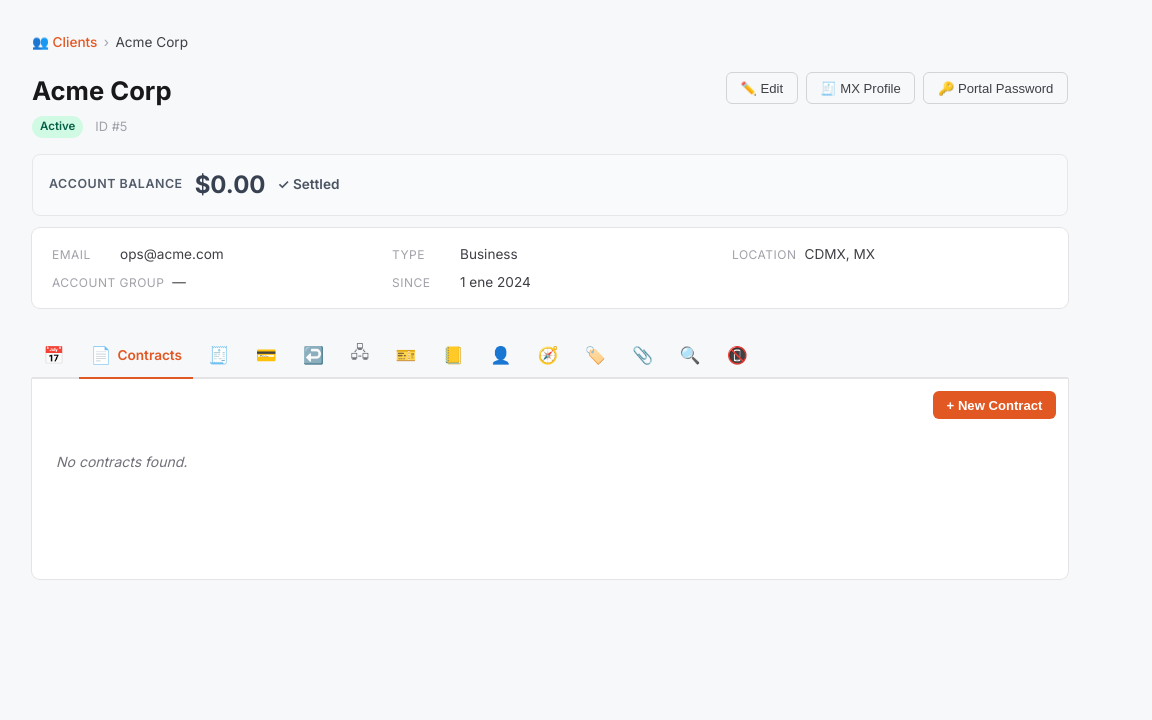
Test: ClientDetail page › Tickets tab lists the client tickets and links to each ticket
Expected: the heading "Acme Corp" is shown, [32,72,172,111]
Click the button named "Tickets": (406, 356) [384,332,428,379]
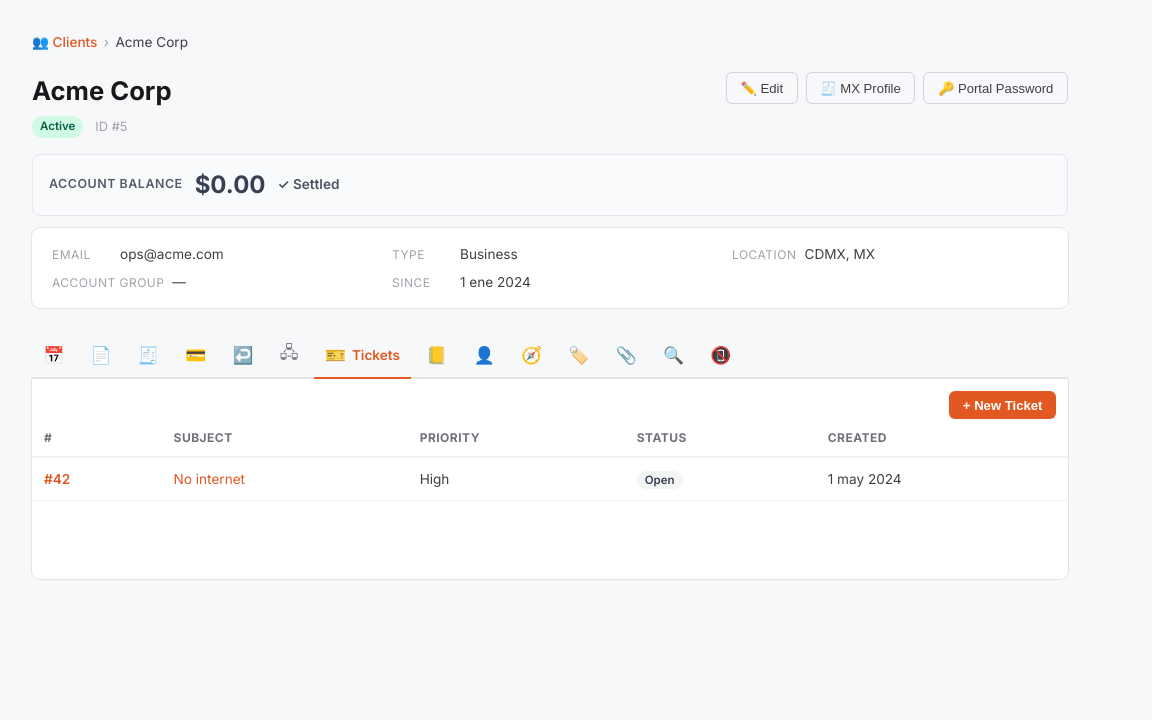
Result: the link "No internet" is shown at [174,471,245,487]
